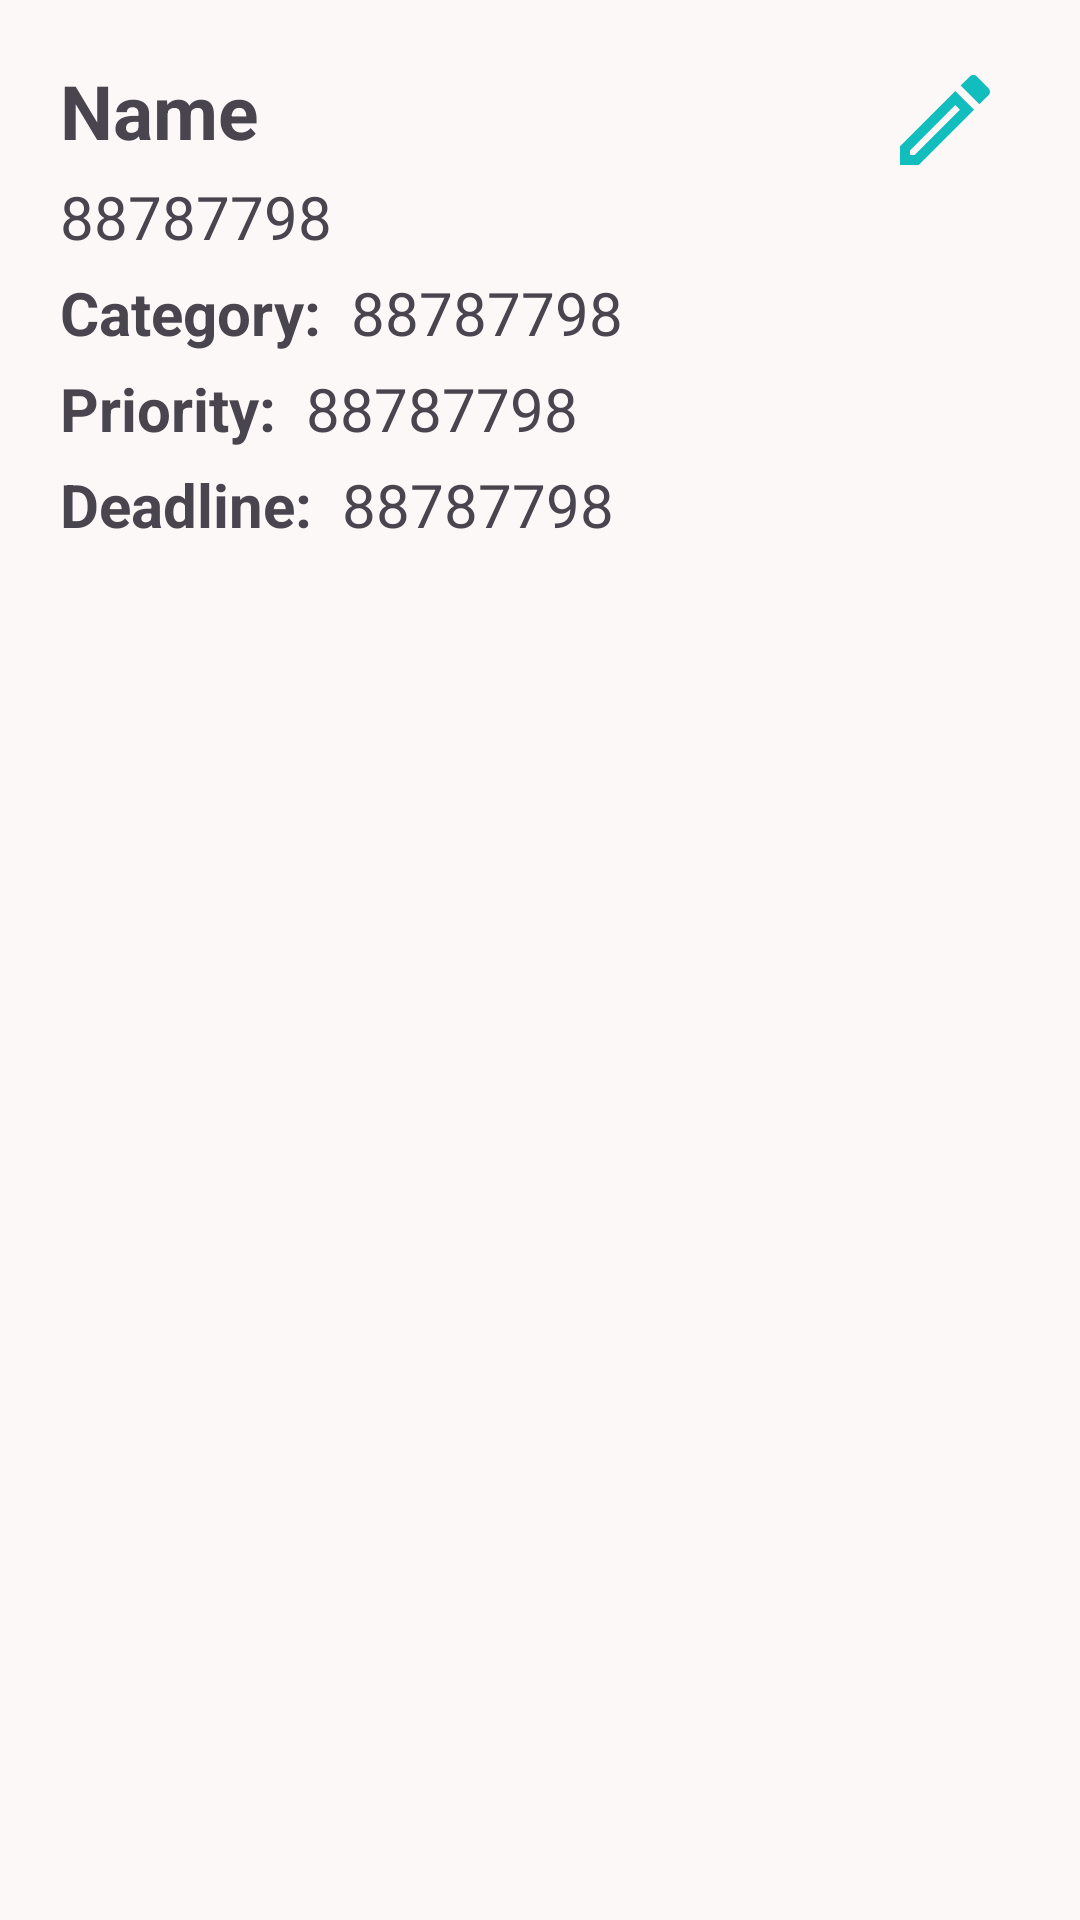

Icon click points for this 1080 x 1920 phone screenshot, format [x,y]:
edit: [945,120]
